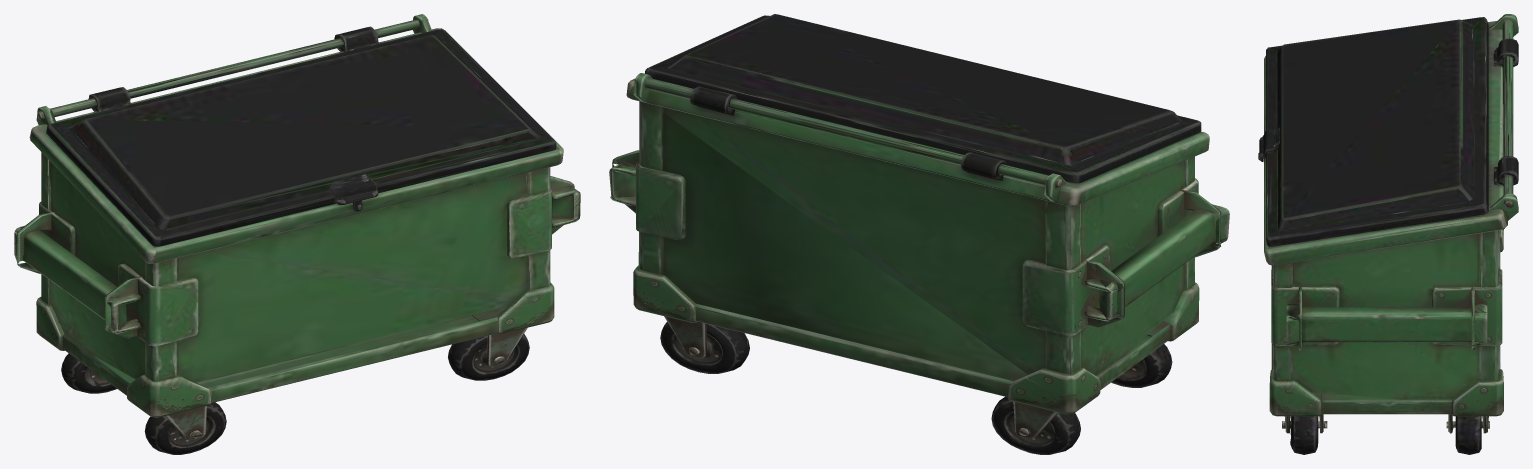
File: dumpster.glb
3 renders of one model, left to right at view 1: azimuth 30°, elevation 25°; view 2: azimuth 150°, elevation 25°; view 3: azimuth 270°, elevation 25°, orthographic. The views are drawn at different scales.
Parts seen in each view (by area): view 1: dumpster; view 2: dumpster; view 3: dumpster.
Boxes of the visible parts, left/top/right/bottom form: dumpster: left=14, top=14, right=580, bottom=454; dumpster: left=609, top=14, right=1229, bottom=454; dumpster: left=1258, top=14, right=1518, bottom=454.
Size of the model in its own units: 1.94 by 1.1 by 0.9509.
1 material, 1 textured.
